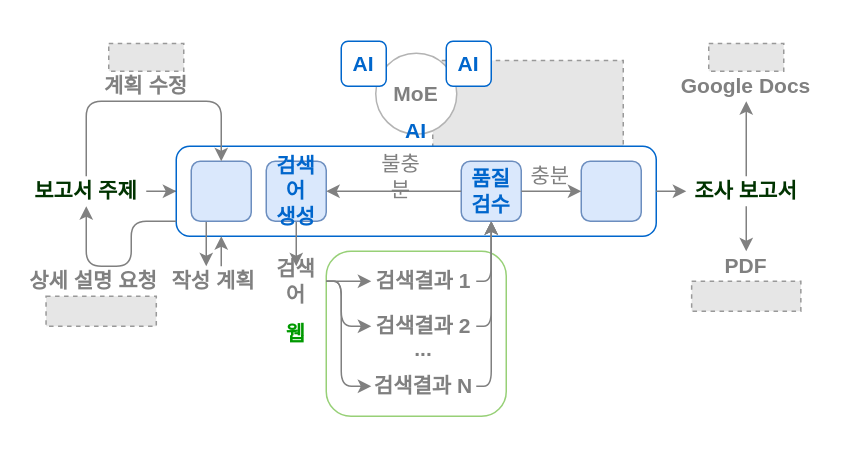
Some shapes in this 846 by 456 pixel diagram are drawn without their labels. Grey dashed boxes stand in for pictures. The shapes that lost their labels are listed below. From the top down, each one's centre as x and y in pixels, then its label:
[220,190]: 계획 작성
[610,190]: 결과 취합
